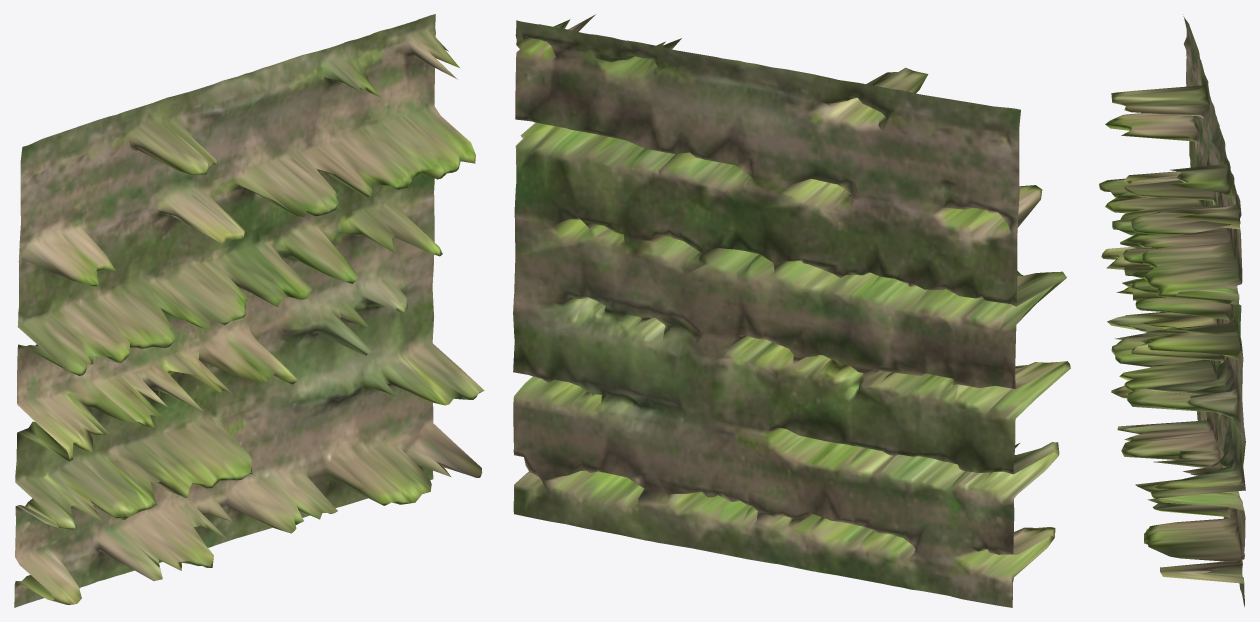
Rendered from map_130_30.obj.
The picture shows the model from 3 angles, left to right: view 1: azimuth 30°, elevation 25°; view 2: azimuth 150°, elevation 25°; view 3: azimuth 270°, elevation 25°; orthographic projection. The views are drawn at different scales.
Size of the model in its own units: 10 by 10 by 3.29.
1 material, 1 textured.
